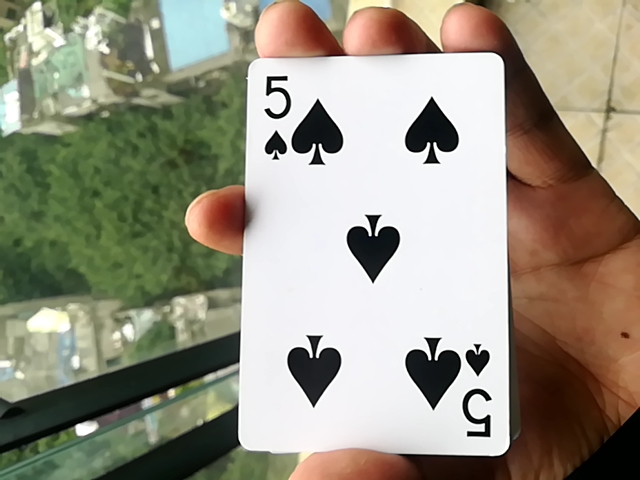ht 5: (224, 44, 514, 460)
